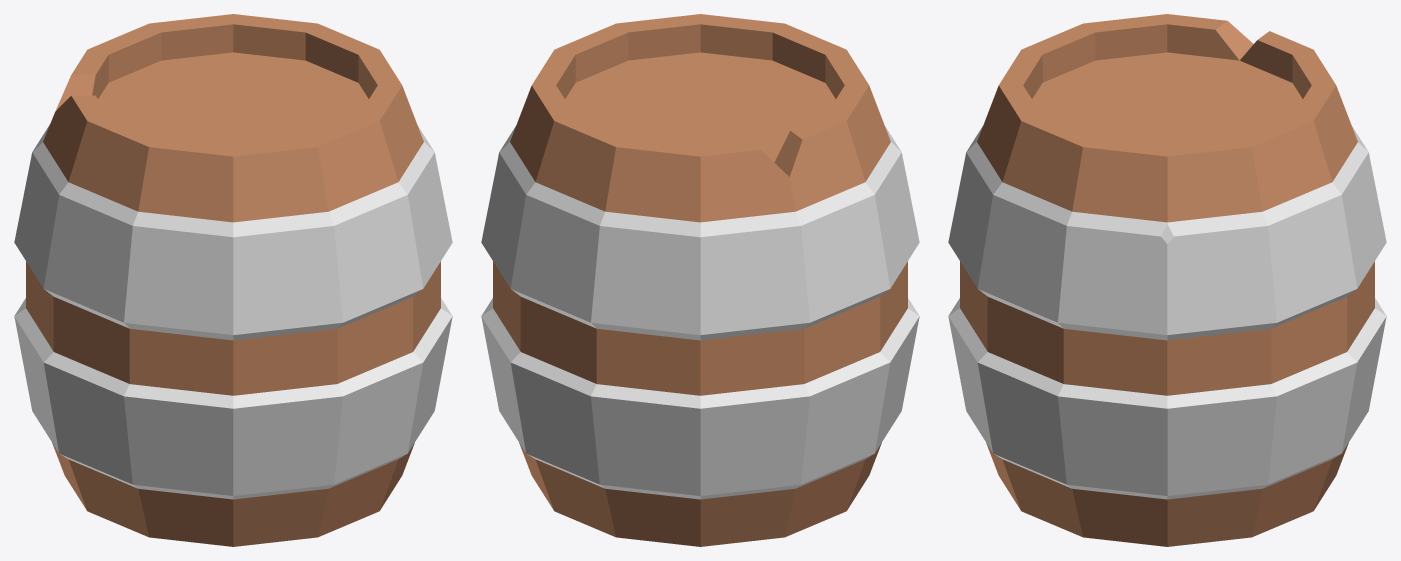
The model's file is barrel.fbx.
3 views of the same model, side by side, from view 1: azimuth 30°, elevation 25°; view 2: azimuth 150°, elevation 25°; view 3: azimuth 270°, elevation 25° (orthographic).
Visible parts, largest first — view 1: Cylinder.002; view 2: Cylinder.002; view 3: Cylinder.002.
Boxes of the visible parts, x1=… form: Cylinder.002: x1=14, y1=14, x2=452, y2=546; Cylinder.002: x1=481, y1=14, x2=919, y2=546; Cylinder.002: x1=948, y1=14, x2=1386, y2=546.
Bounding box in the file's own units: 128 × 126 × 128.
